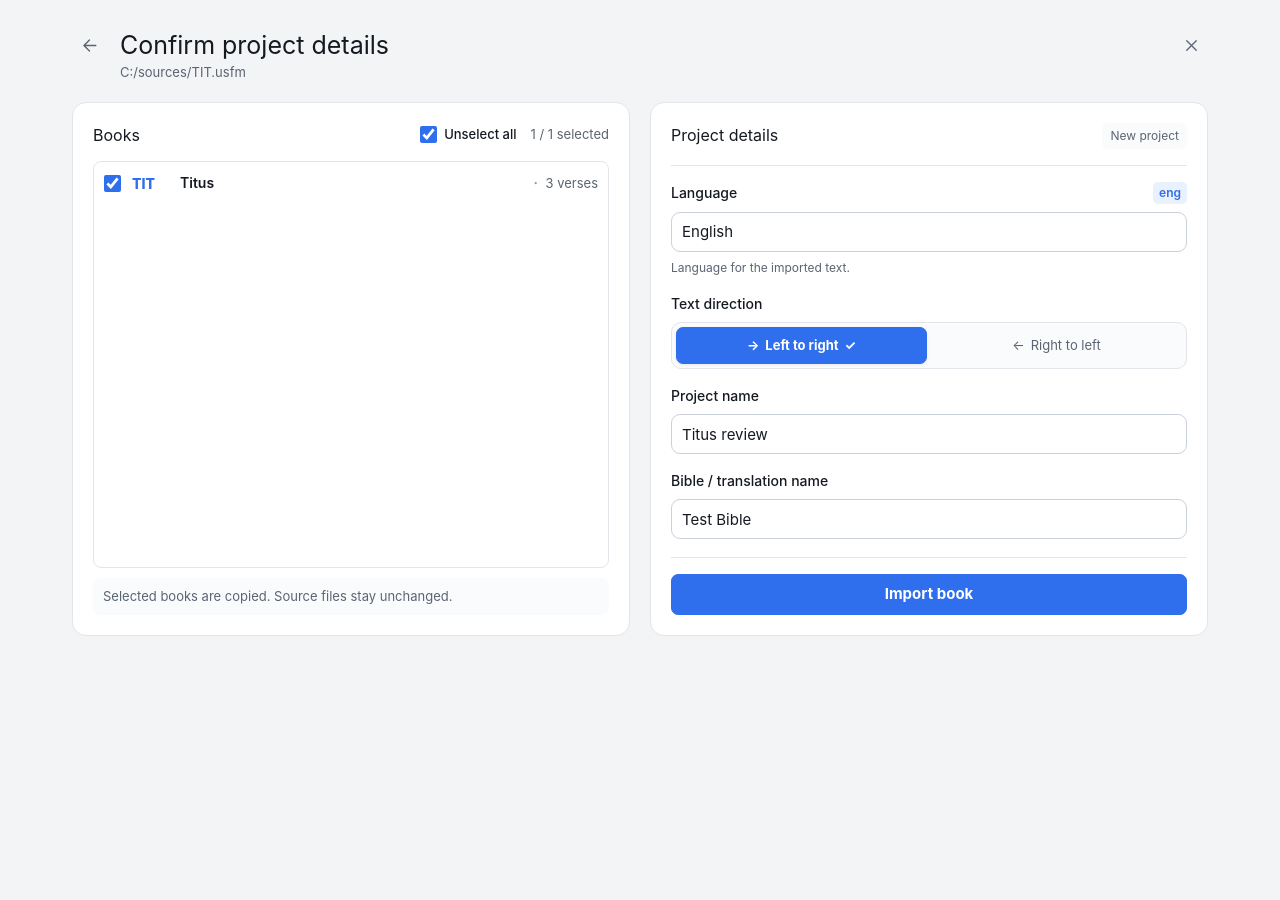
Test case: ImportScreen background import (#231) › cancel asks the engine, nothing opens, and the import can be started again
expect the heading "Confirm project details" is shown: met, box [120,30,389,60]
Click the button "Import book" at (929, 594), box [671,574,1187,614]
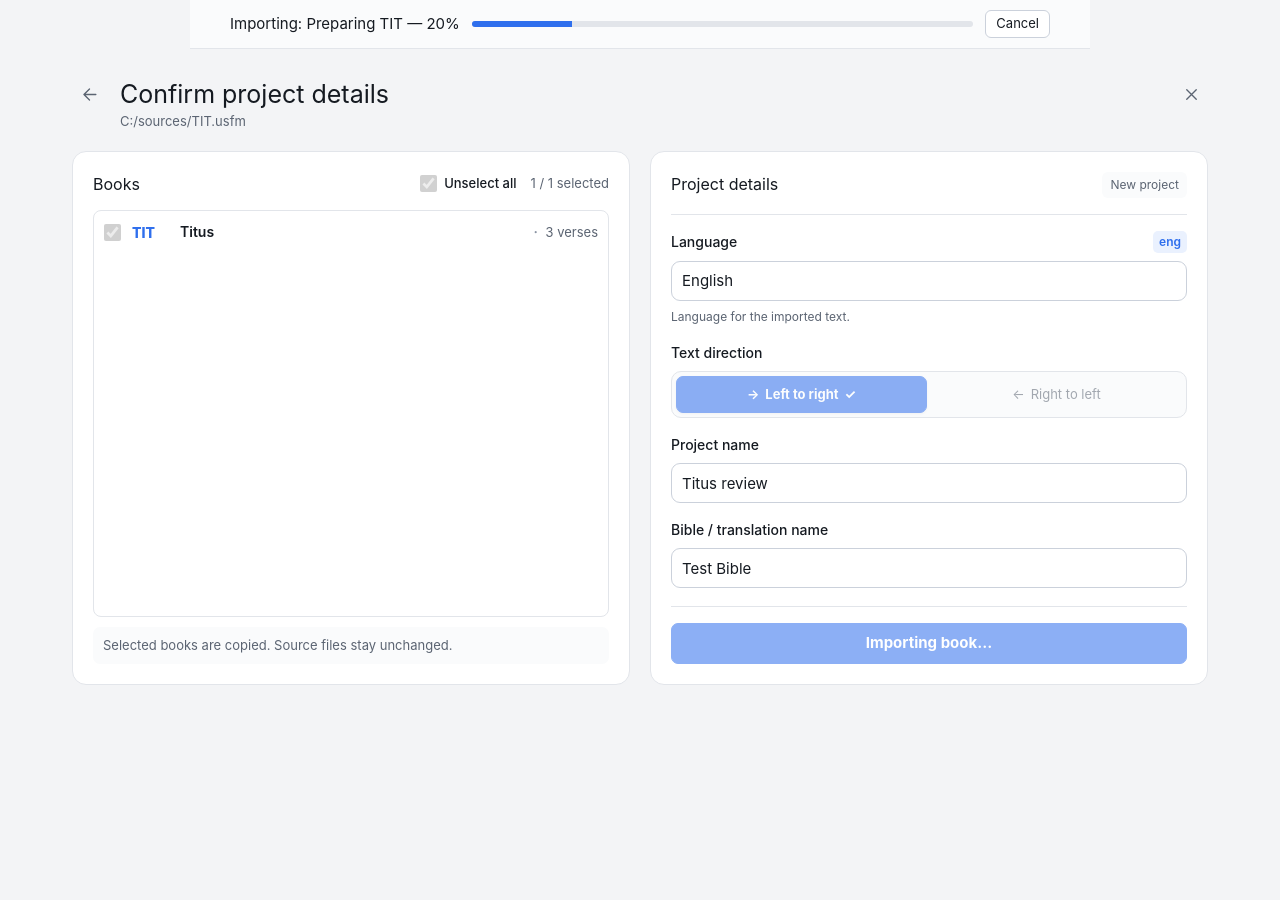
Click the button "Cancel" at (1018, 24), box [985,10,1050,38]
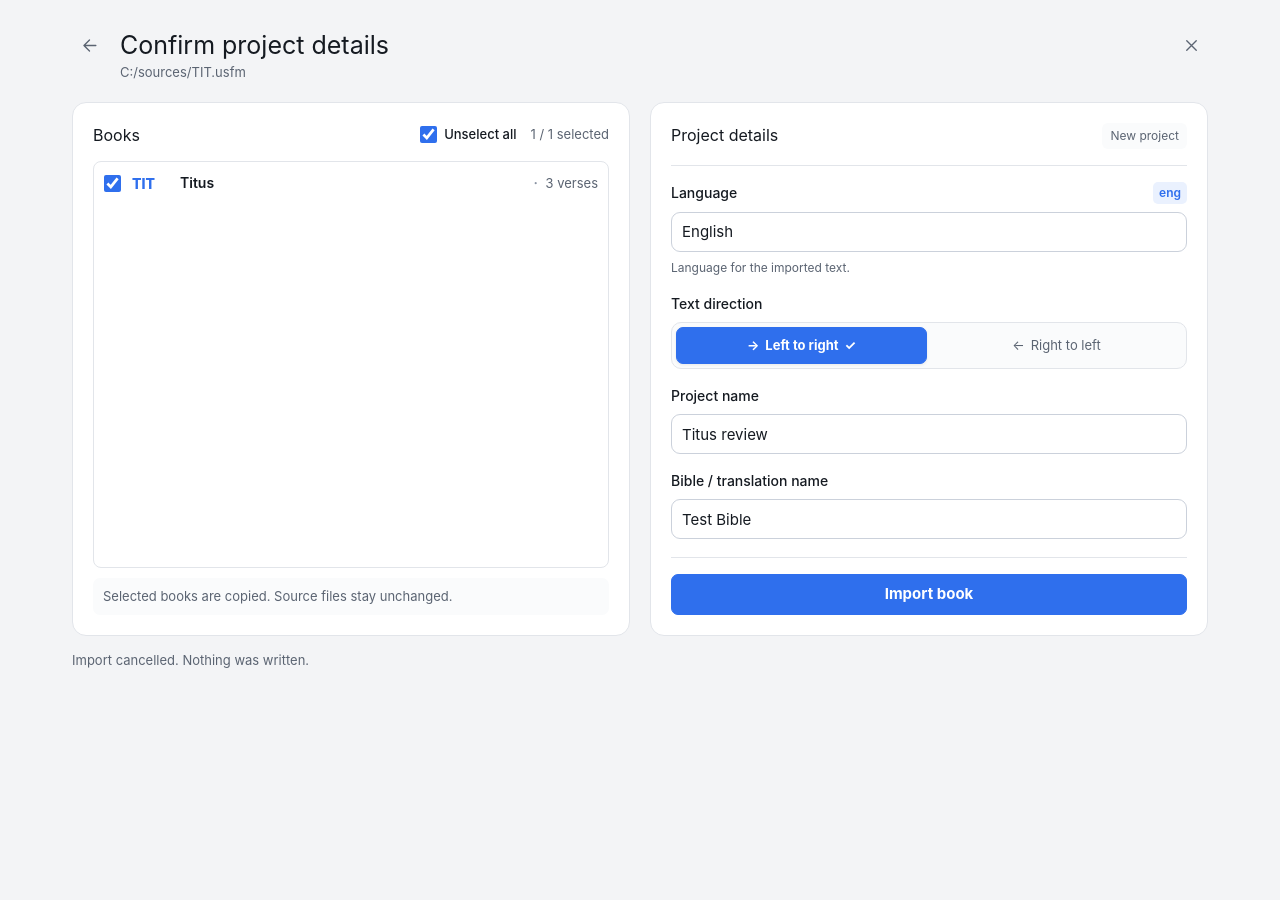
expect the text "Import cancelled. Nothing was written." is shown: met, box [72,652,309,668]
expect the button "Import book" is enabled: met, box [671,574,1187,614]
